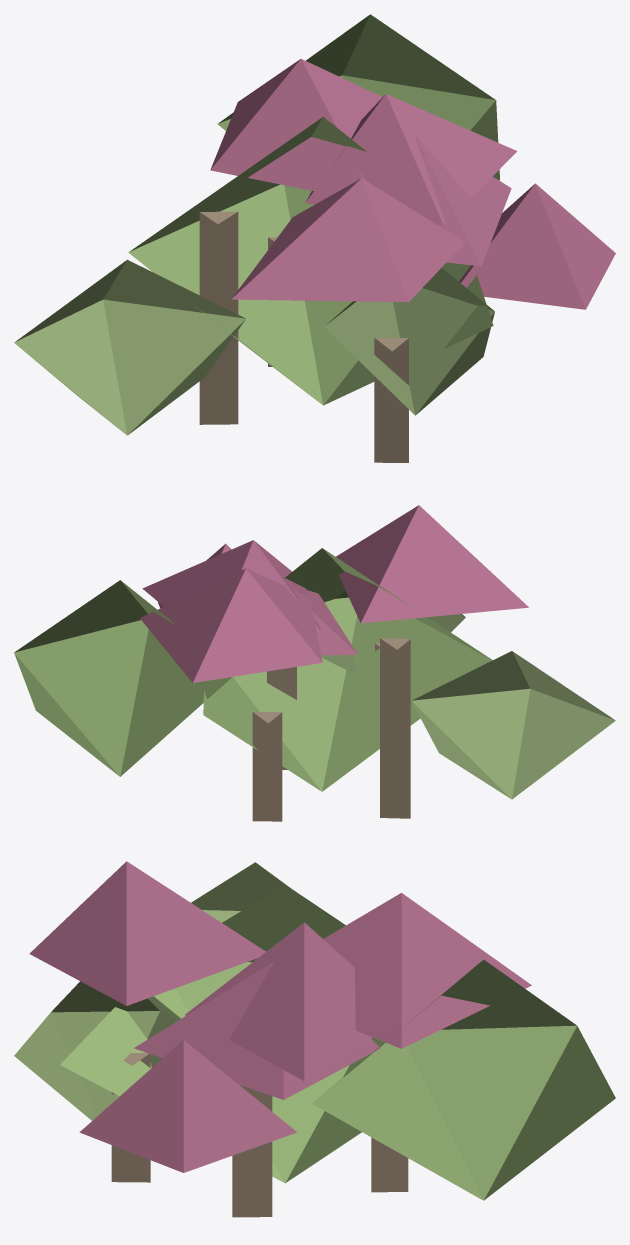
Rendered from shrub.cold.dwarf_birch__bloom.glb.
The picture shows the model from 3 angles, top to bottom: view 1: azimuth 30°, elevation 25°; view 2: azimuth 150°, elevation 25°; view 3: azimuth 270°, elevation 25°; orthographic projection. The views are drawn at different scales.
Parts seen in each view (by area): view 1: shrub.cold.dwarf_birch__bloom; view 2: shrub.cold.dwarf_birch__bloom; view 3: shrub.cold.dwarf_birch__bloom.
Part boxes in pixels (x1,y1,x2,y2): shrub.cold.dwarf_birch__bloom: [14, 14, 615, 462]; shrub.cold.dwarf_birch__bloom: [14, 505, 615, 821]; shrub.cold.dwarf_birch__bloom: [14, 861, 615, 1217].
Size of the model in its own units: 1.71 by 0.8754 by 1.52.
